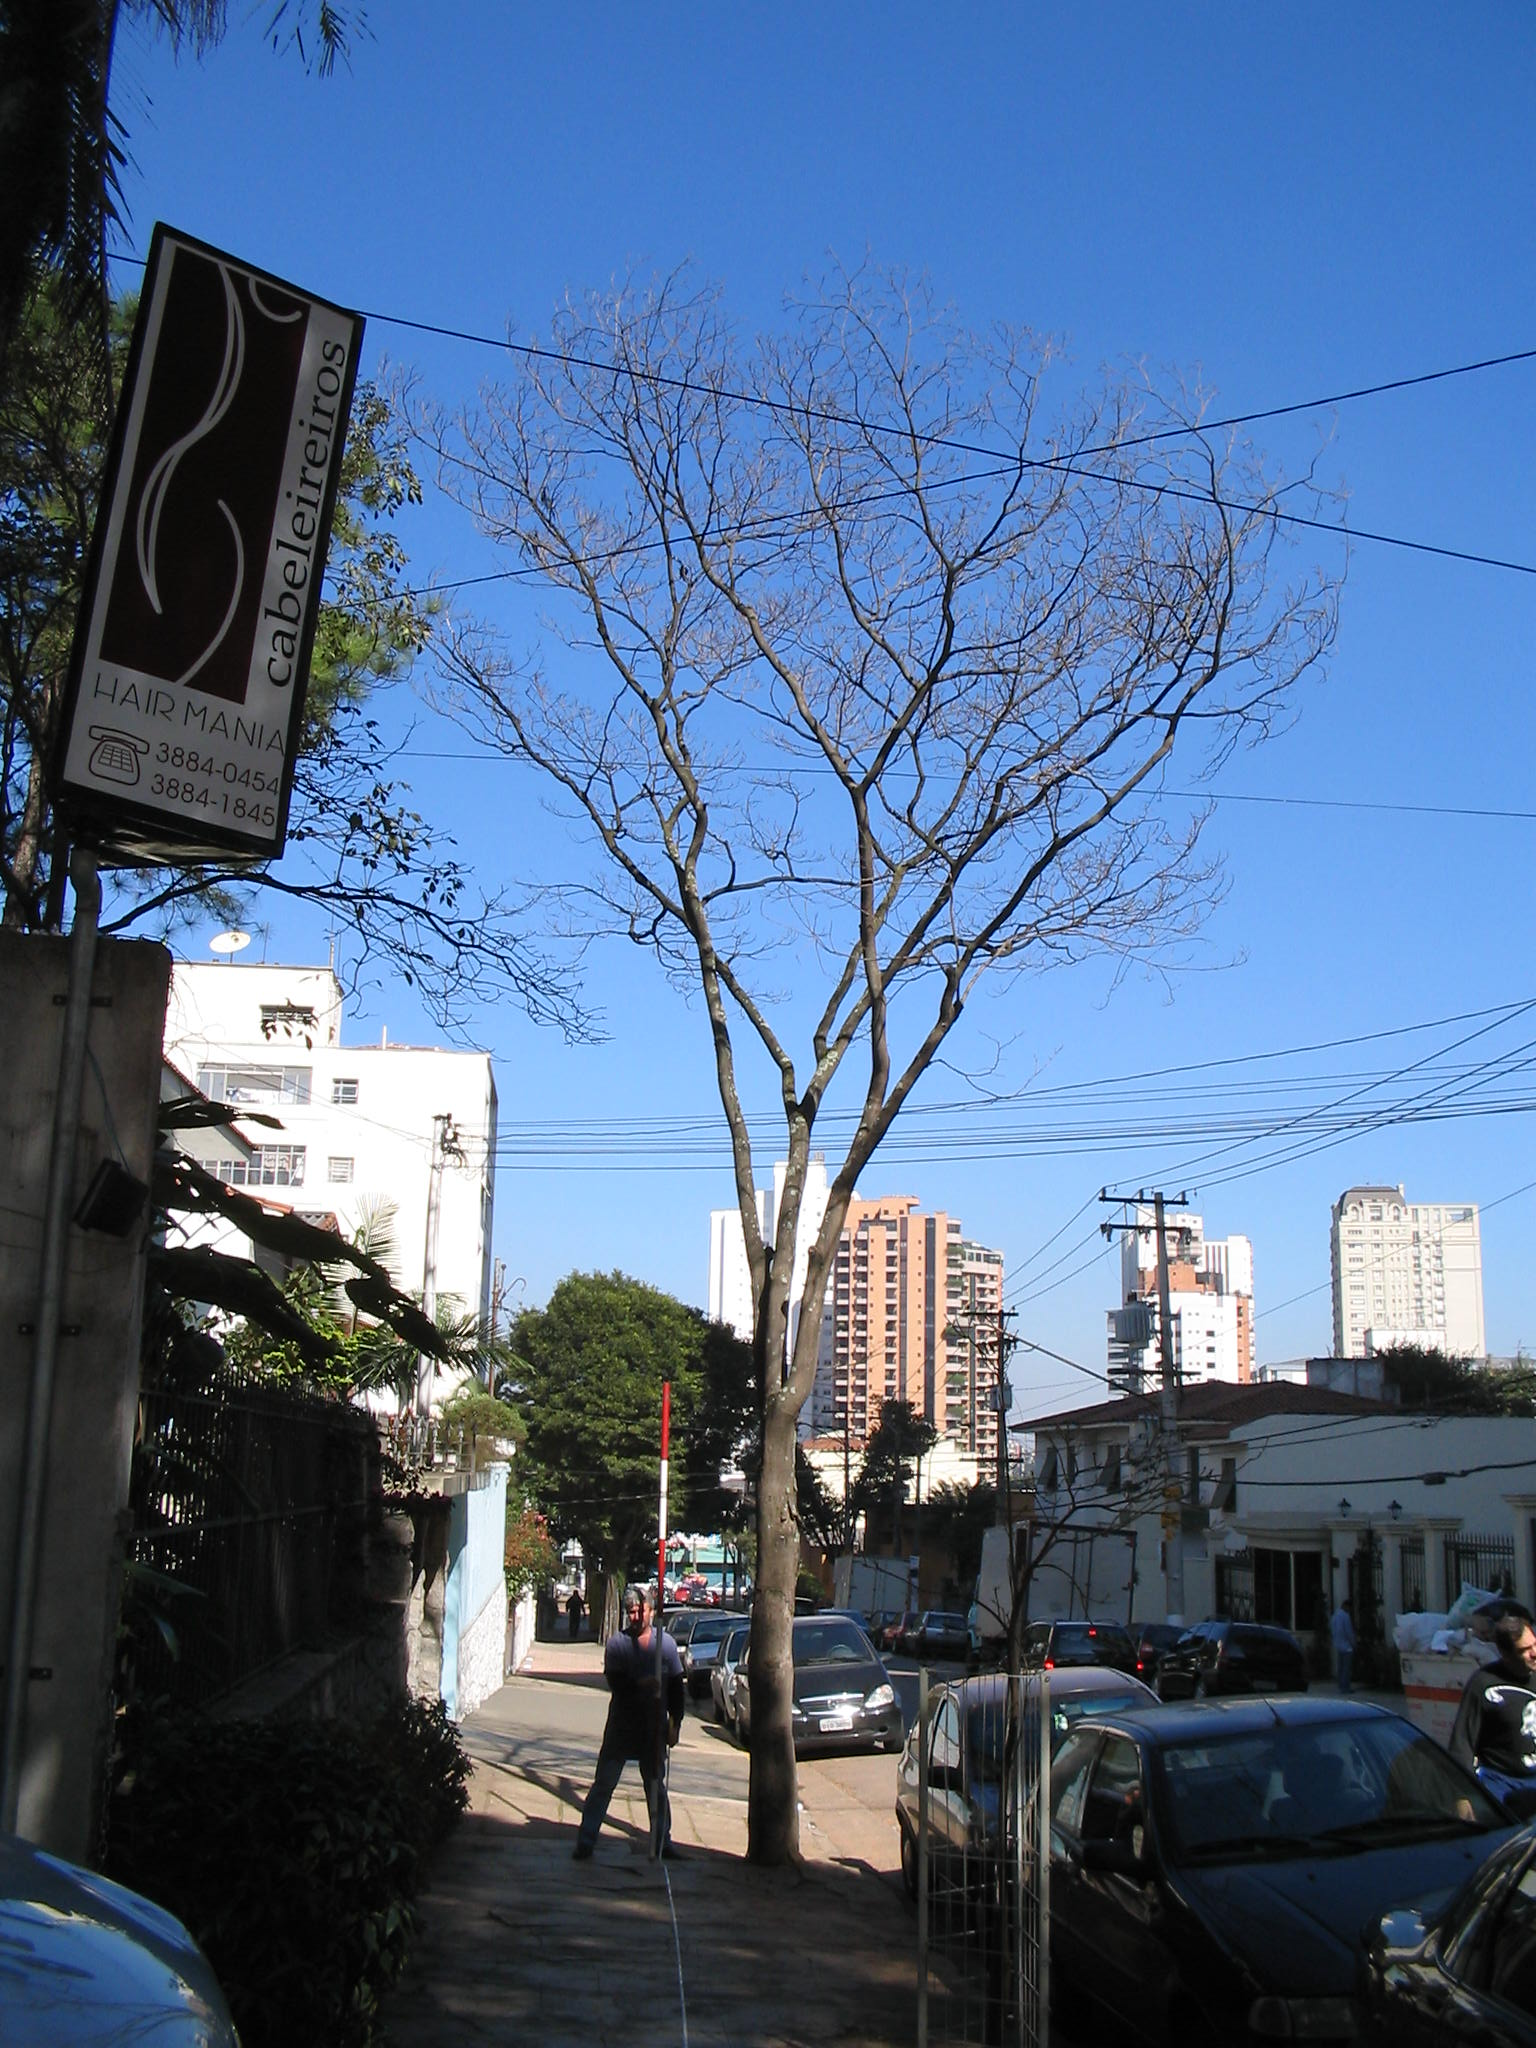stem: (703, 1405, 841, 1854)
stick: (616, 1382, 691, 1858)
tree: (382, 263, 1362, 1858)
